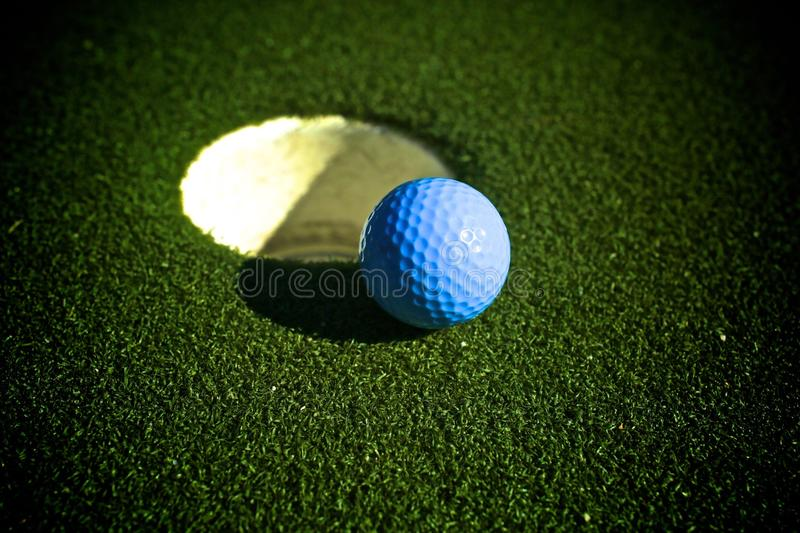blue ball: (359, 175, 514, 328)
